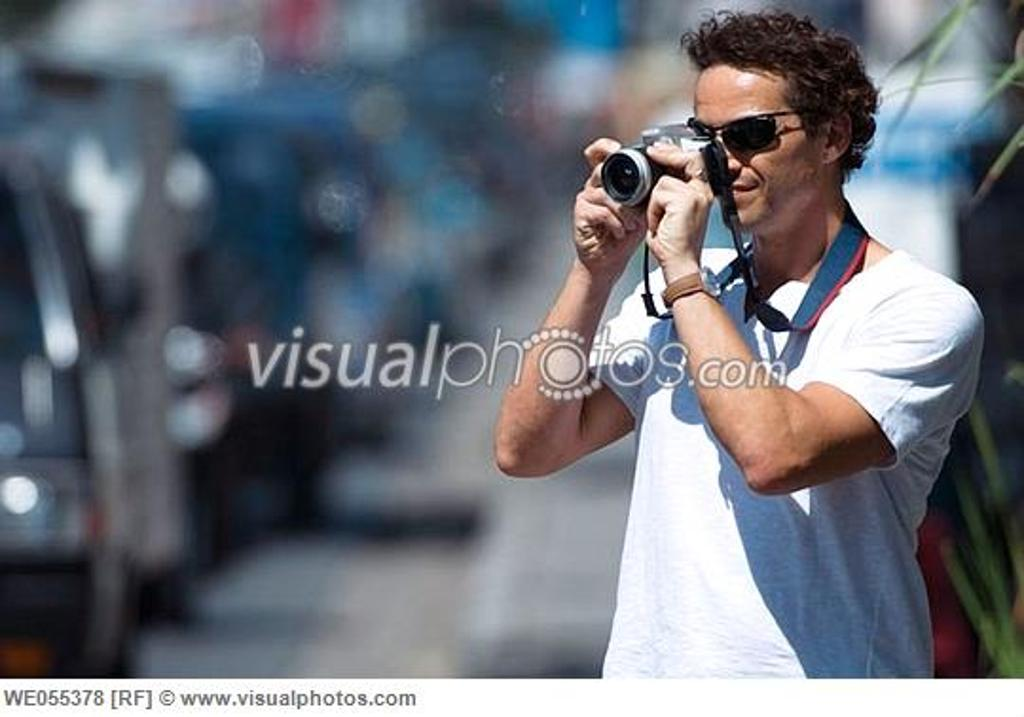face: (688, 64, 818, 226)
